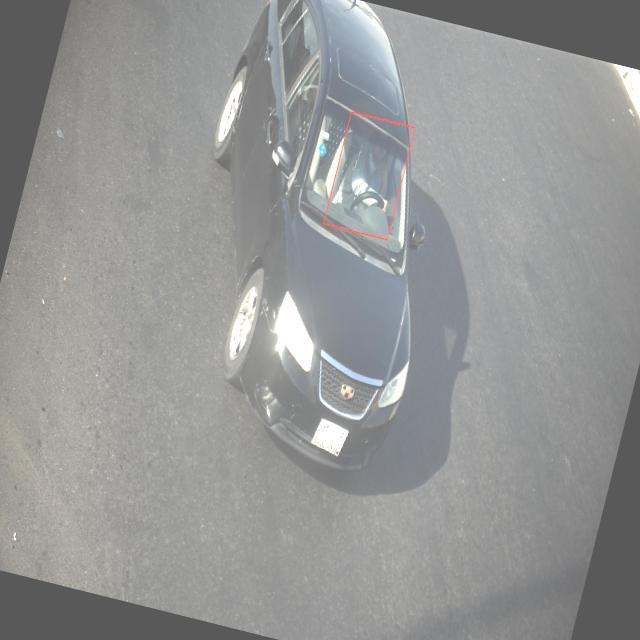windshield: (289, 95, 444, 272)
